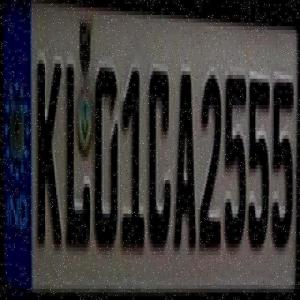Plate: (1, 0, 300, 300)
